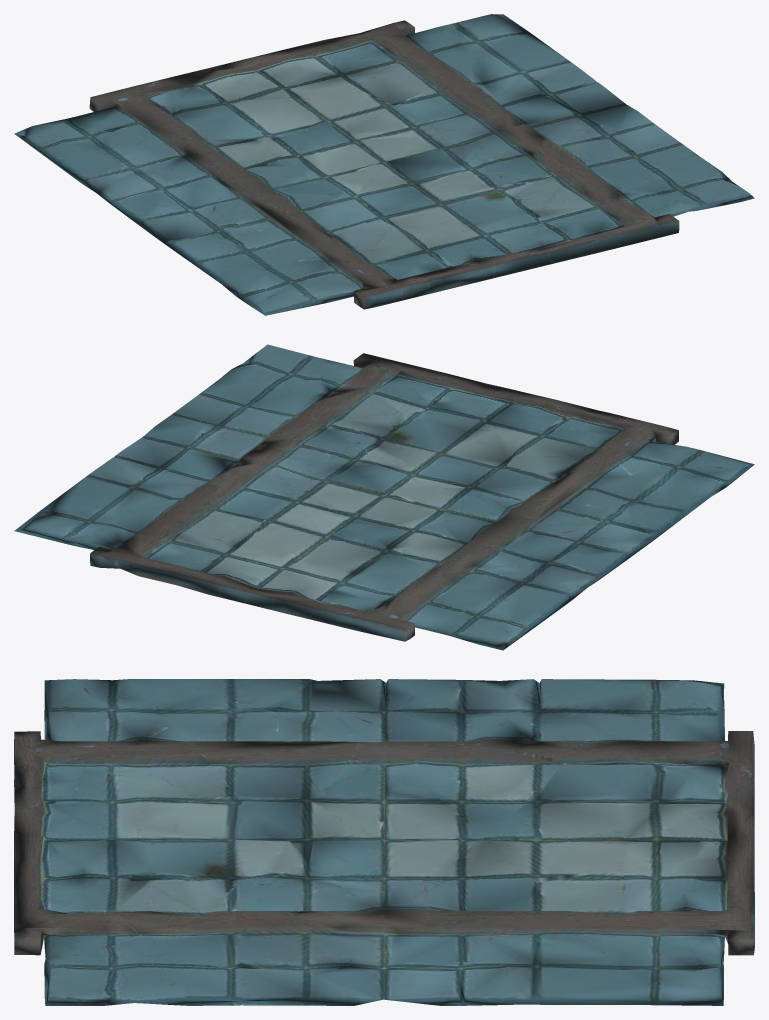
File: checker-road.glb
3 renders of one model, top to bottom at view 1: azimuth 30°, elevation 25°; view 2: azimuth 150°, elevation 25°; view 3: azimuth 270°, elevation 25°, orthographic. The views are drawn at different scales.
Bounding box in the file's own units: 1.9 × 0.0478 × 1.84.
1 material, 1 textured.
